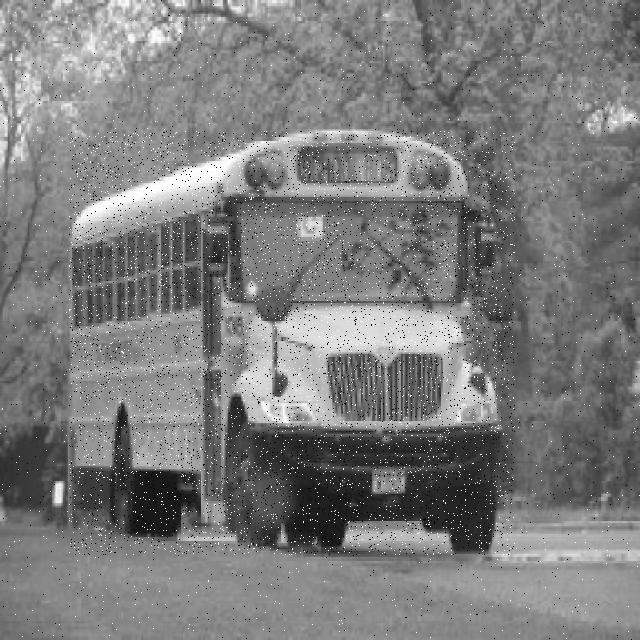Bus: (69, 131, 515, 555)
